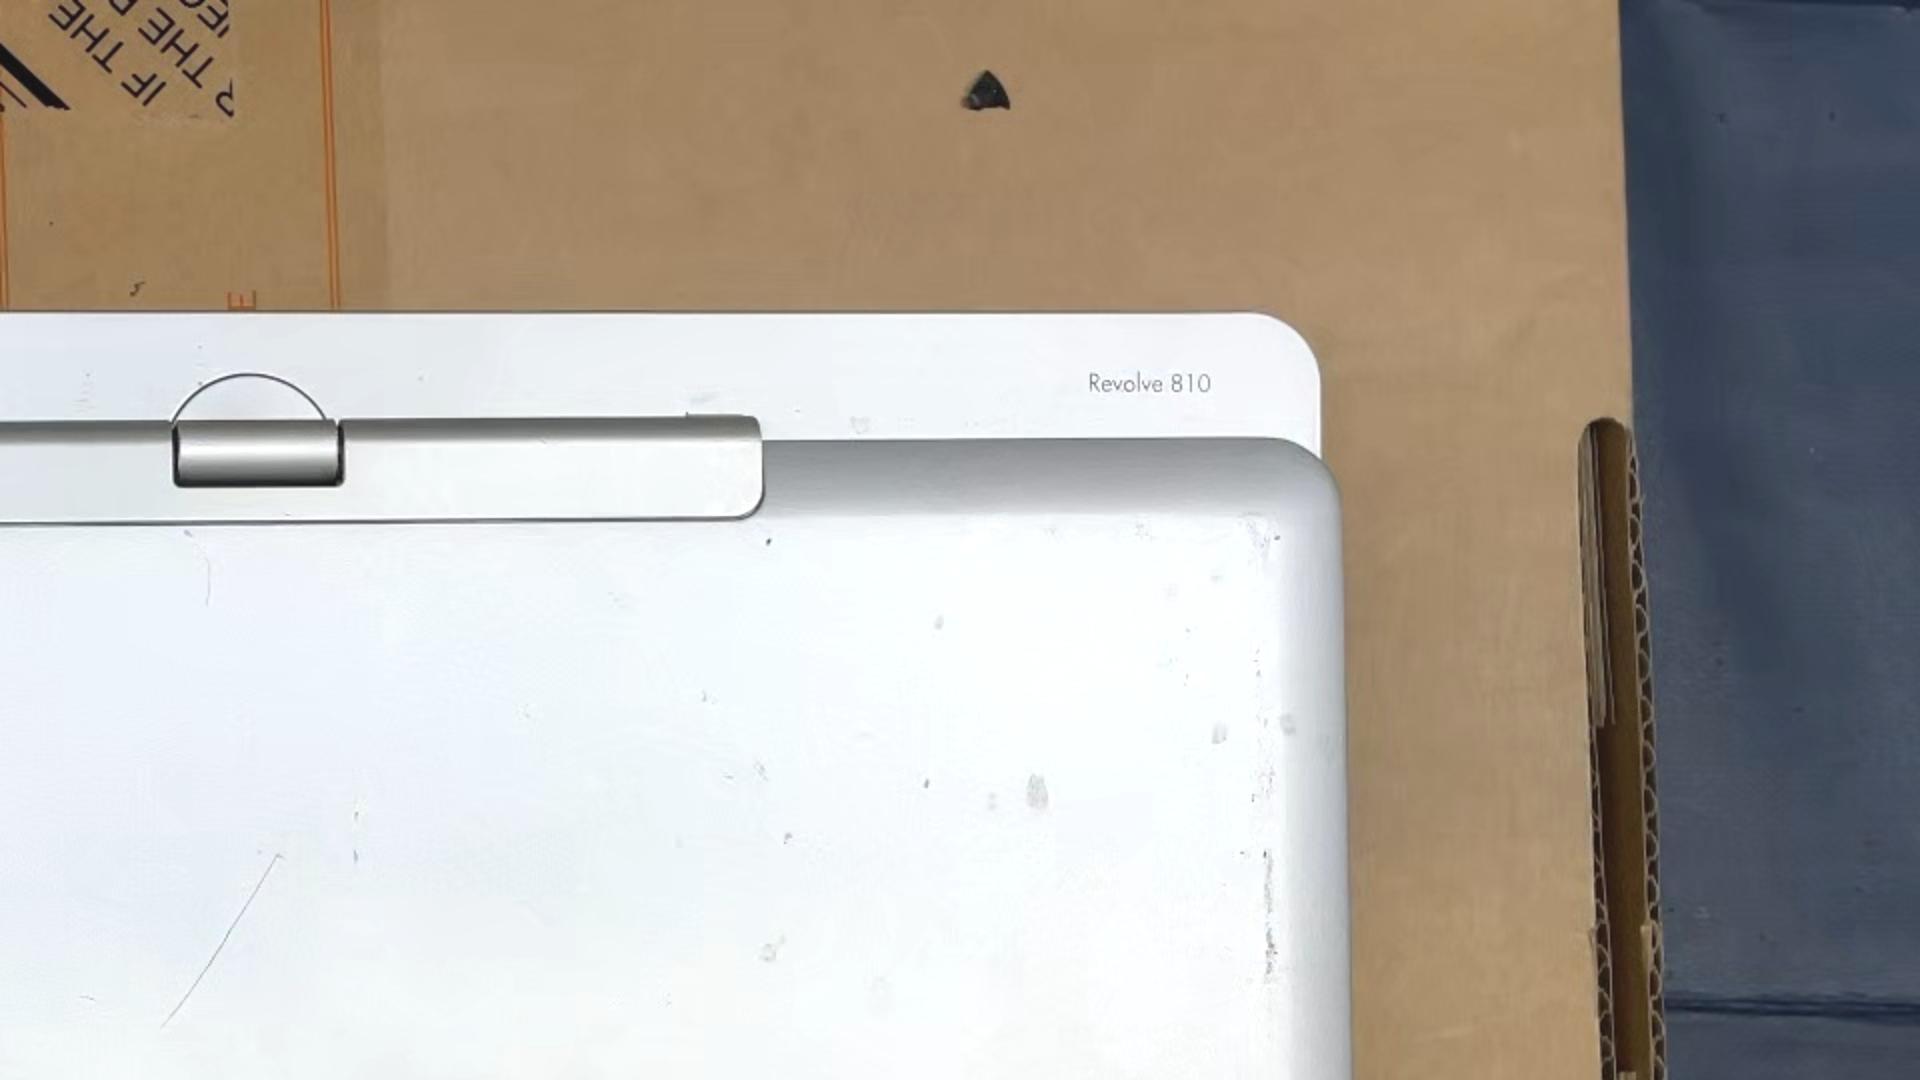chip: (764, 535, 777, 550)
scratches: (157, 852, 285, 1031), (202, 554, 212, 609), (352, 808, 361, 827), (352, 847, 360, 866)
